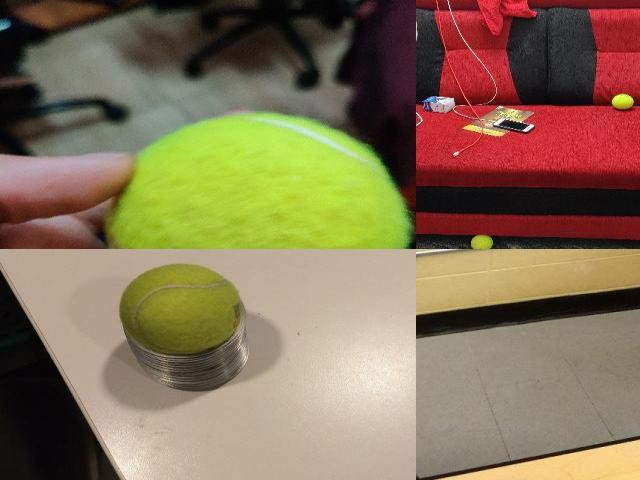tennis-ball: (105, 114, 407, 248), (118, 263, 242, 355), (611, 93, 633, 109), (470, 235, 493, 248)
